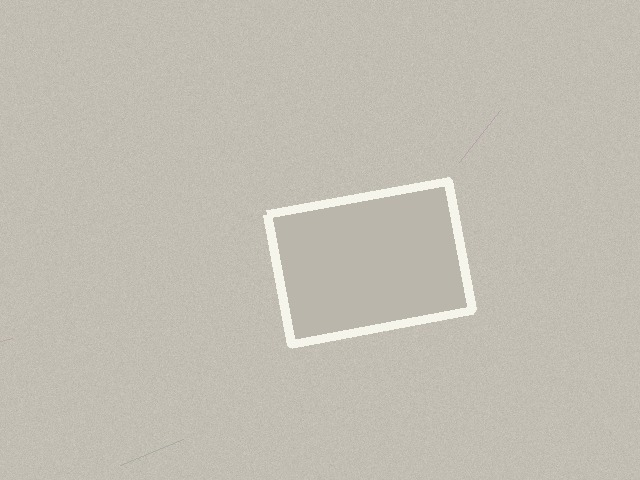parking_area: (267, 181, 472, 344)
